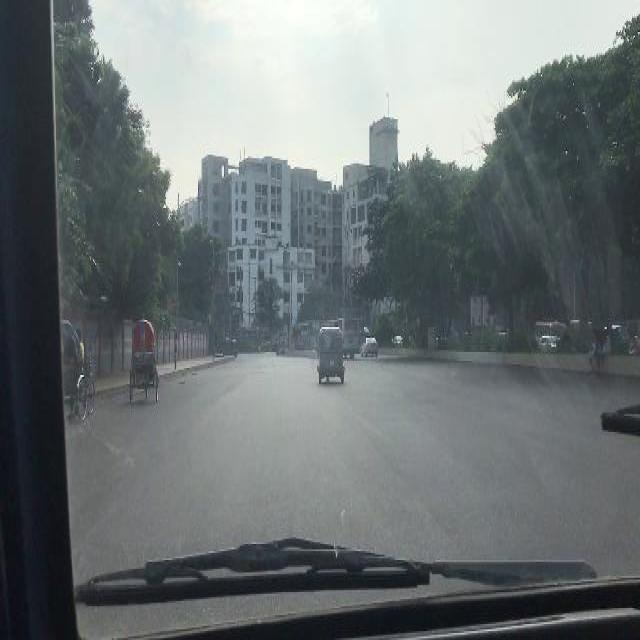bus: (331, 318, 358, 358), (534, 316, 563, 339)
car: (538, 332, 557, 348), (361, 334, 376, 354)
motorcycle: (60, 318, 96, 420), (128, 320, 160, 400), (318, 326, 344, 380), (220, 338, 235, 354)
